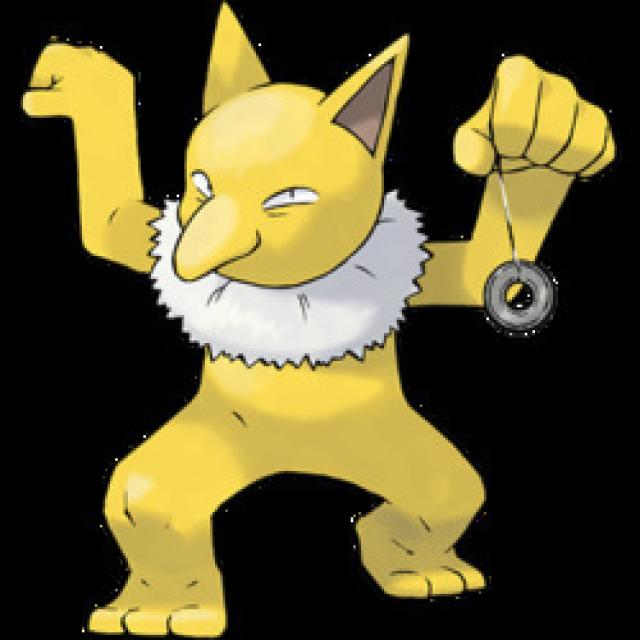Hypno: (135, 33, 491, 601)
